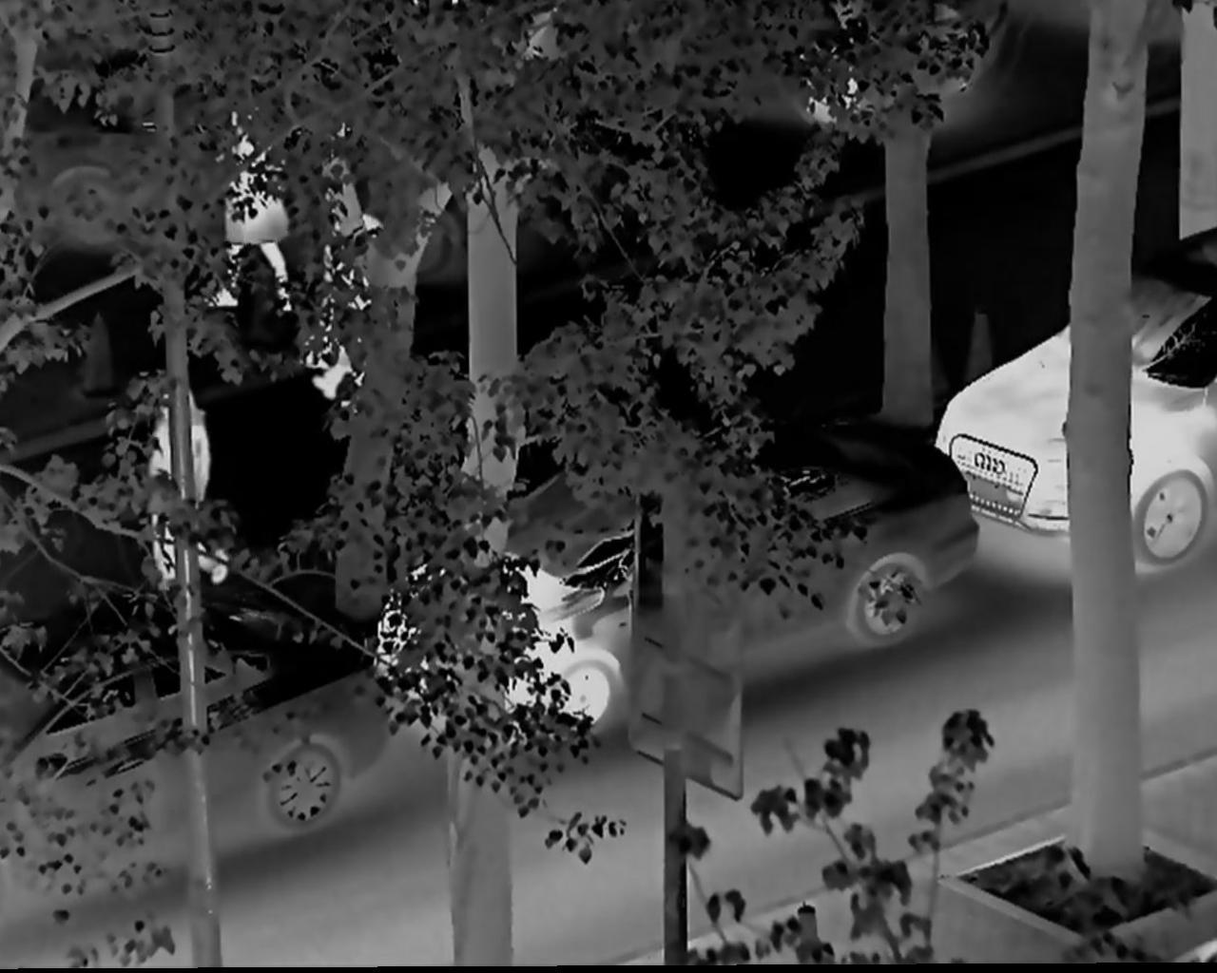person: (133, 386, 234, 602), (209, 104, 294, 319)
